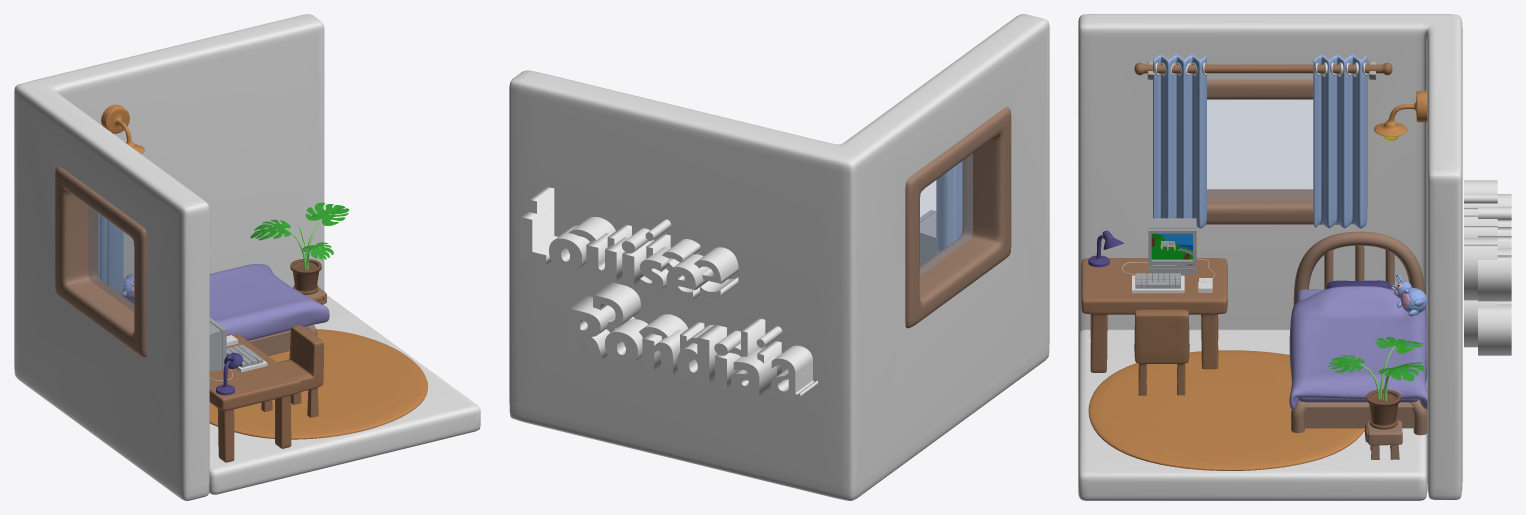
Rendered from mini_room_1.glb.
3 renders of one model, left to right at view 1: azimuth 30°, elevation 25°; view 2: azimuth 150°, elevation 25°; view 3: azimuth 270°, elevation 25°, orthographic. The views are drawn at different scales.
Visible parts, largest first — view 1: walls, floor, new rug, window, blanket, table, window.001, monstera, chair, curtain.001, wall lamp, computer (+2 smaller); view 2: walls, Text.001, window, Text, window.001, curtain, computer; view 3: walls, new rug, floor, blanket, window.001, curtain.001, curtain, table, window, Text.001, Text, chair (+11 smaller).
Boxes of the visible parts, left/top/right/bottom form: walls: left=14, top=14, right=324, bottom=500; floor: left=209, top=295, right=480, bottom=494; new rug: left=209, top=329, right=427, bottom=439; window: left=55, top=166, right=146, bottom=357; blanket: left=122, top=264, right=329, bottom=340; table: left=209, top=334, right=300, bottom=462; window.001: left=88, top=206, right=133, bottom=311; monstera: left=250, top=202, right=348, bottom=294; chair: left=261, top=325, right=323, bottom=417; curtain.001: left=97, top=213, right=123, bottom=293; wall lamp: left=101, top=104, right=144, bottom=153; computer: left=209, top=317, right=226, bottom=371; walls: left=509, top=14, right=1049, bottom=500; Text.001: left=520, top=206, right=776, bottom=396; window: left=905, top=107, right=1011, bottom=328; Text: left=529, top=187, right=817, bottom=399; window.001: left=920, top=153, right=972, bottom=275; curtain: left=936, top=161, right=962, bottom=252; computer: left=920, top=210, right=937, bottom=266; walls: left=1078, top=14, right=1462, bottom=499; new rug: left=1088, top=350, right=1364, bottom=470; floor: left=1078, top=329, right=1427, bottom=500; blanket: left=1289, top=286, right=1427, bottom=409; window.001: left=1207, top=100, right=1312, bottom=200; curtain.001: left=1313, top=54, right=1367, bottom=228; curtain: left=1153, top=54, right=1206, bottom=228; table: left=1081, top=258, right=1227, bottom=372; window: left=1206, top=79, right=1352, bottom=224; Text.001: left=1478, top=194, right=1511, bottom=355; Text: left=1464, top=180, right=1497, bottom=347; chair: left=1134, top=309, right=1189, bottom=395.
Size of the model in its own units: 3.46 by 3.12 by 3.73.
